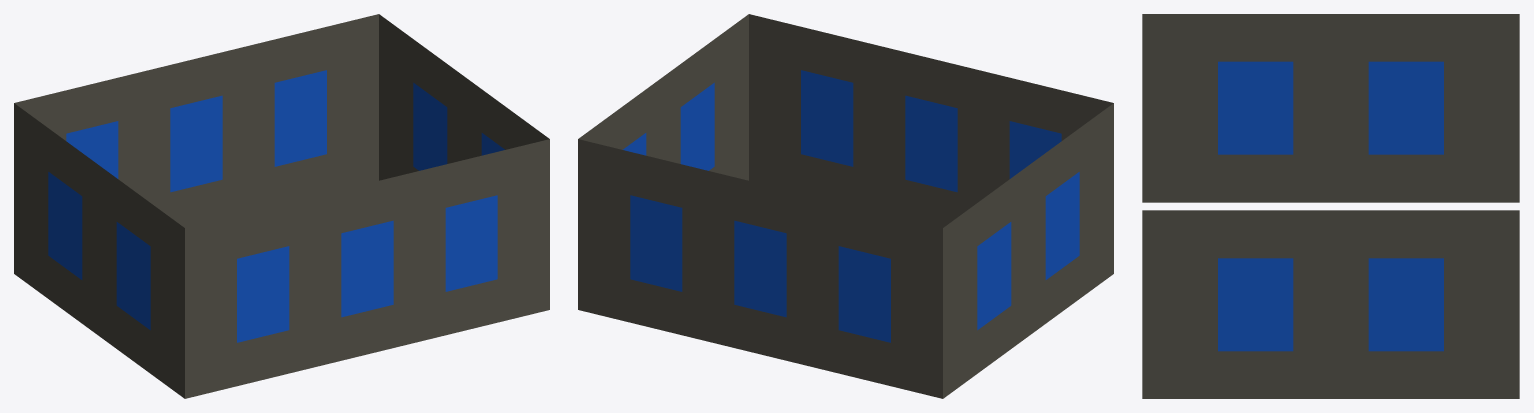
The model's file is CityBuildingC_02_floor.fbx.
The picture shows the model from 3 angles, left to right: view 1: azimuth 30°, elevation 25°; view 2: azimuth 150°, elevation 25°; view 3: azimuth 270°, elevation 25°; orthographic projection. The views are drawn at different scales.
Visible parts, largest first — view 1: CityBuildingC_02_floor; view 2: CityBuildingC_02_floor; view 3: CityBuildingC_02_floor.
Part boxes in pixels (box(x1,y1,x2,y2)): CityBuildingC_02_floor: box(14, 14, 549, 398); CityBuildingC_02_floor: box(578, 14, 1113, 398); CityBuildingC_02_floor: box(1142, 14, 1519, 398).
Size of the model in its own units: 0.6706 by 0.3 by 0.5438.
